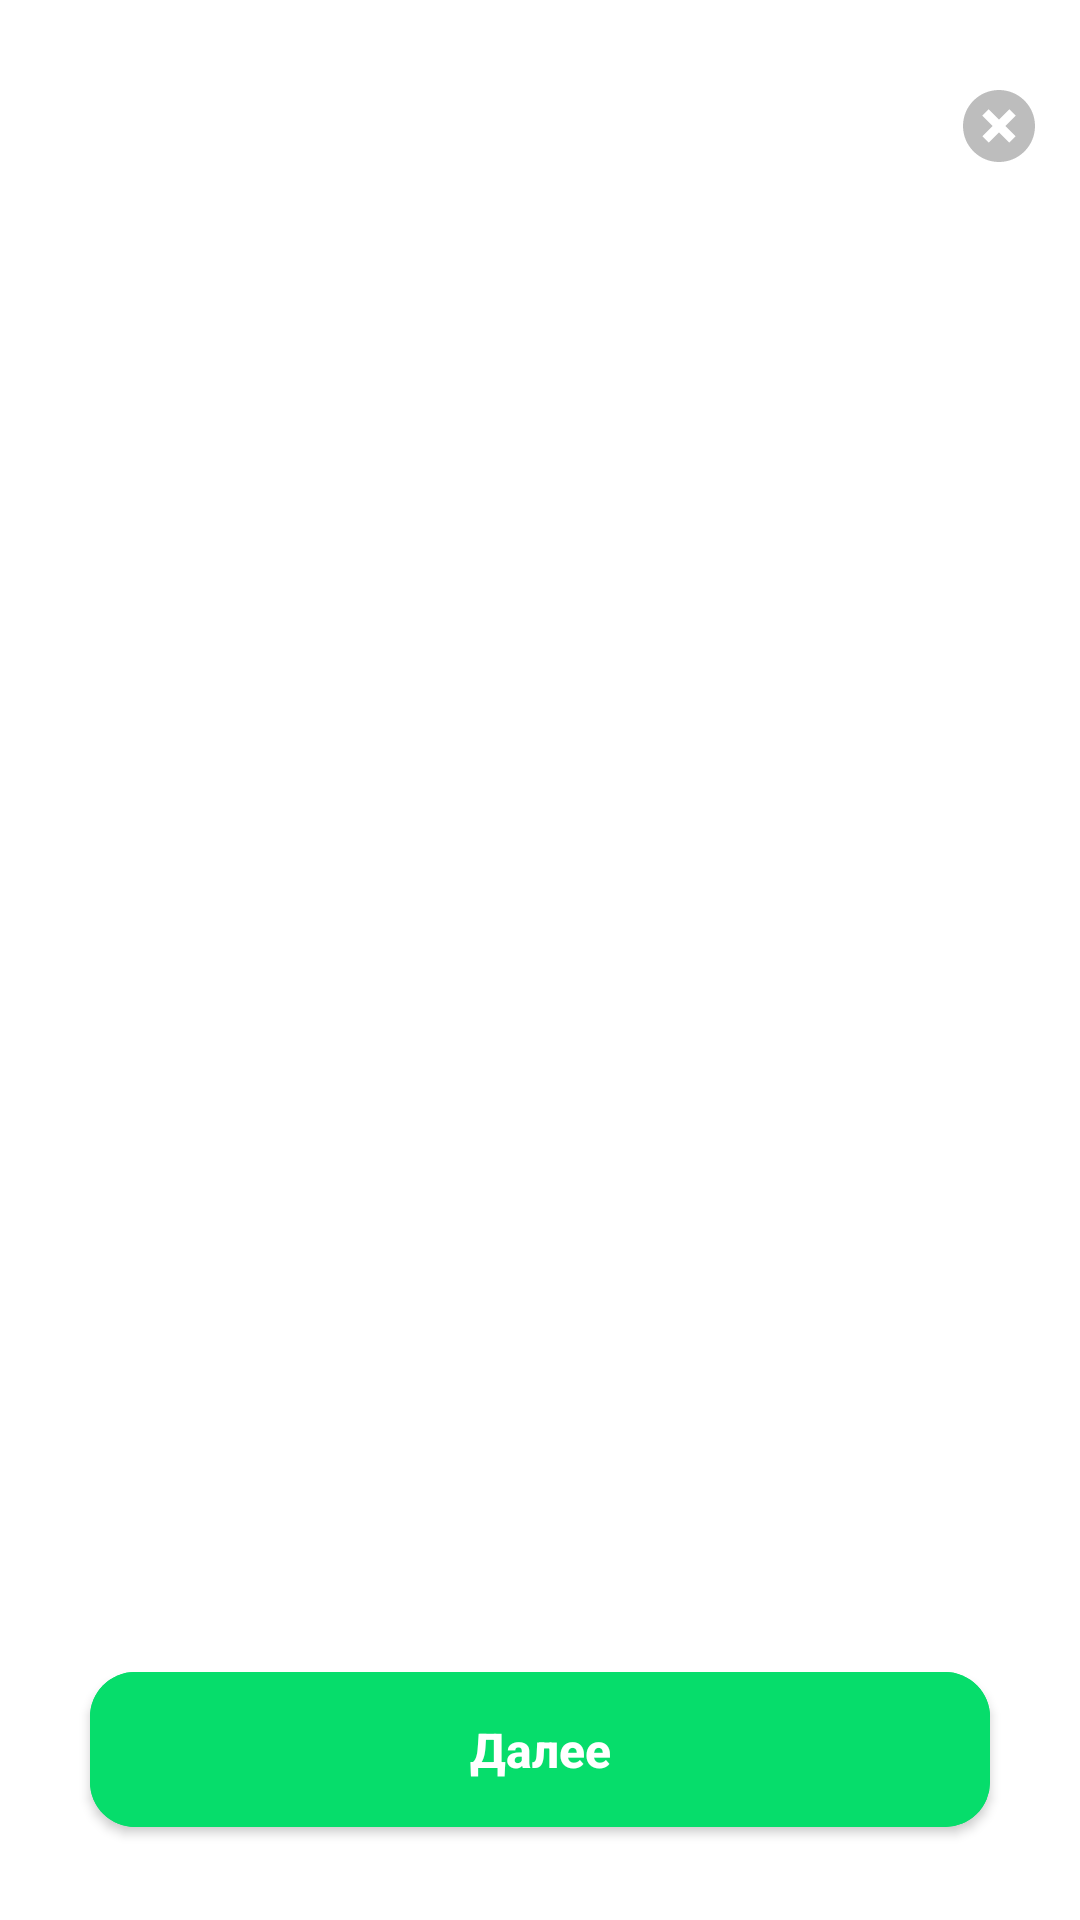

Screen size 1080×1920. Icon name, then its center in pixels as point (x, y):
close: point (999, 126)
